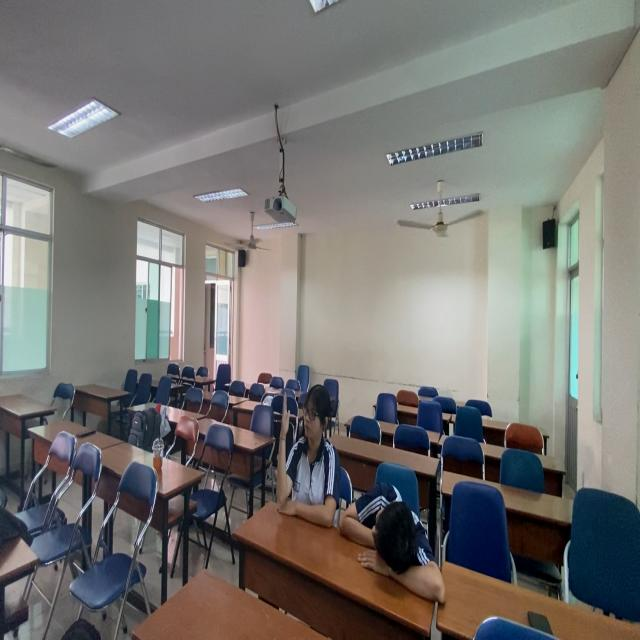raise_hand: (276, 371, 344, 530)
sleep: (324, 483, 456, 610)
